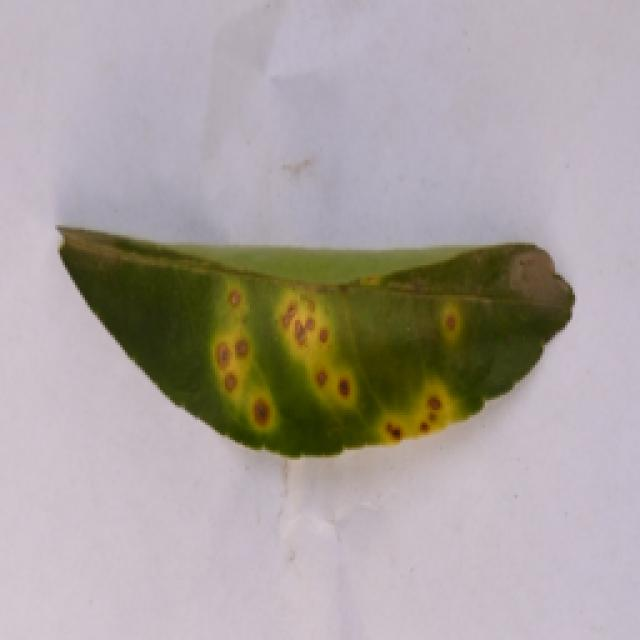canker: (79, 233, 527, 459)
